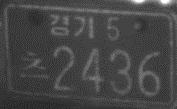2: (52, 45, 77, 91)
3: (108, 48, 133, 96)
4: (80, 47, 104, 93)
5: (105, 16, 120, 41)
6: (137, 50, 162, 97)
경기_O: (49, 13, 95, 39)
츠: (19, 50, 49, 81)
